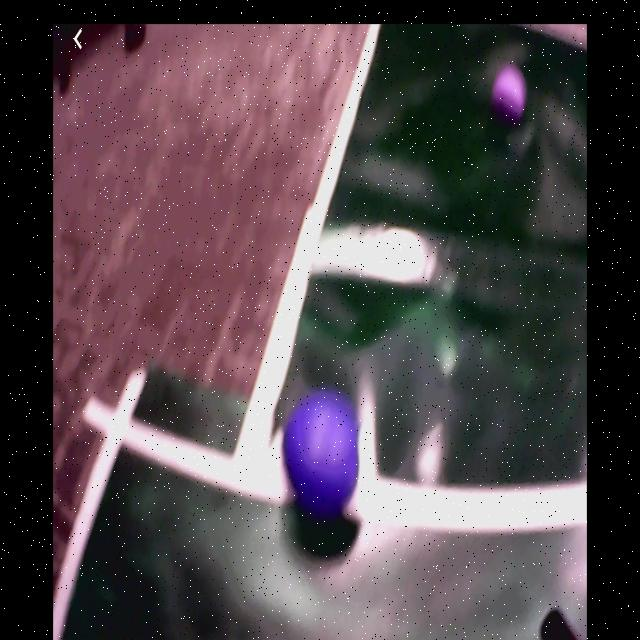ball: (282, 392, 360, 506), (494, 66, 525, 114)
